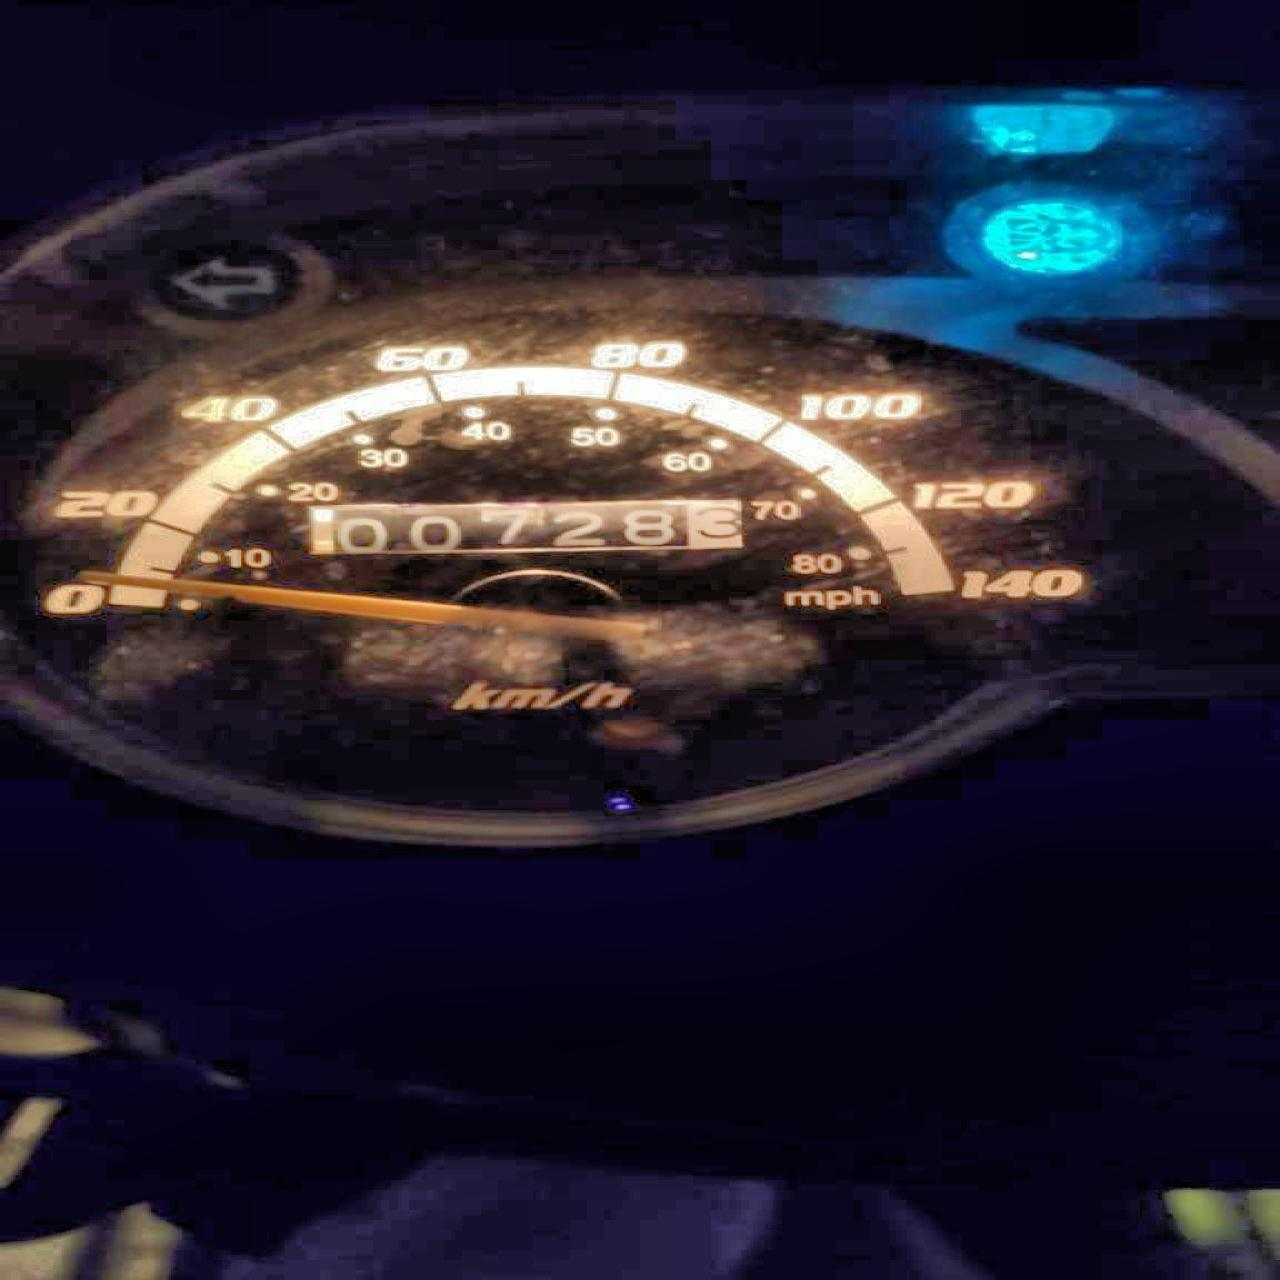0: (402, 512, 462, 553), (333, 512, 392, 553)
2: (545, 508, 606, 547)
3: (692, 505, 744, 537)
7: (476, 505, 531, 544)
8: (620, 505, 678, 544)
odometer: (300, 497, 756, 561)
